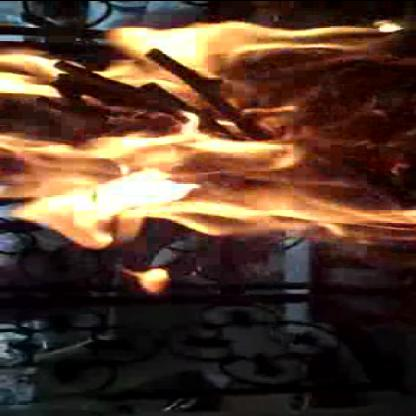Fire: (5, 20, 331, 238)
